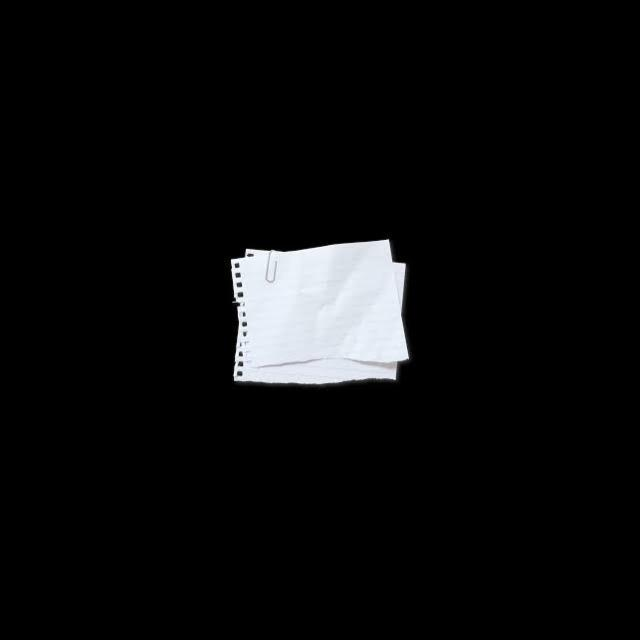paper: (230, 245, 411, 393)
